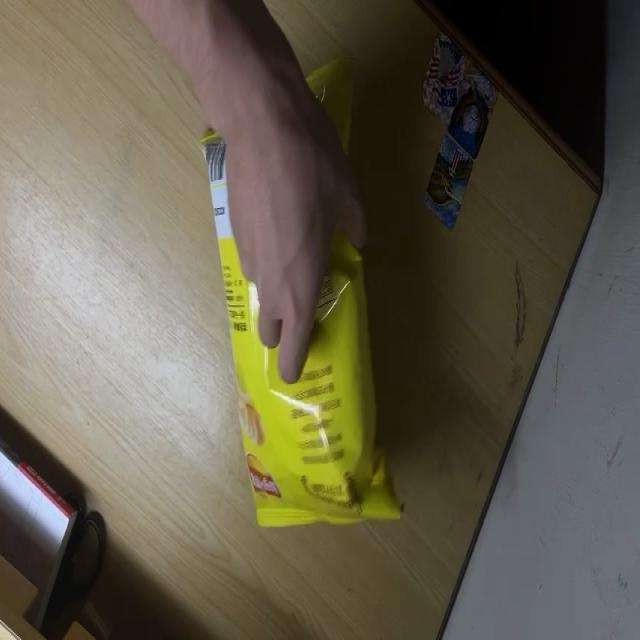Lay-s-original: (197, 65, 409, 524)
